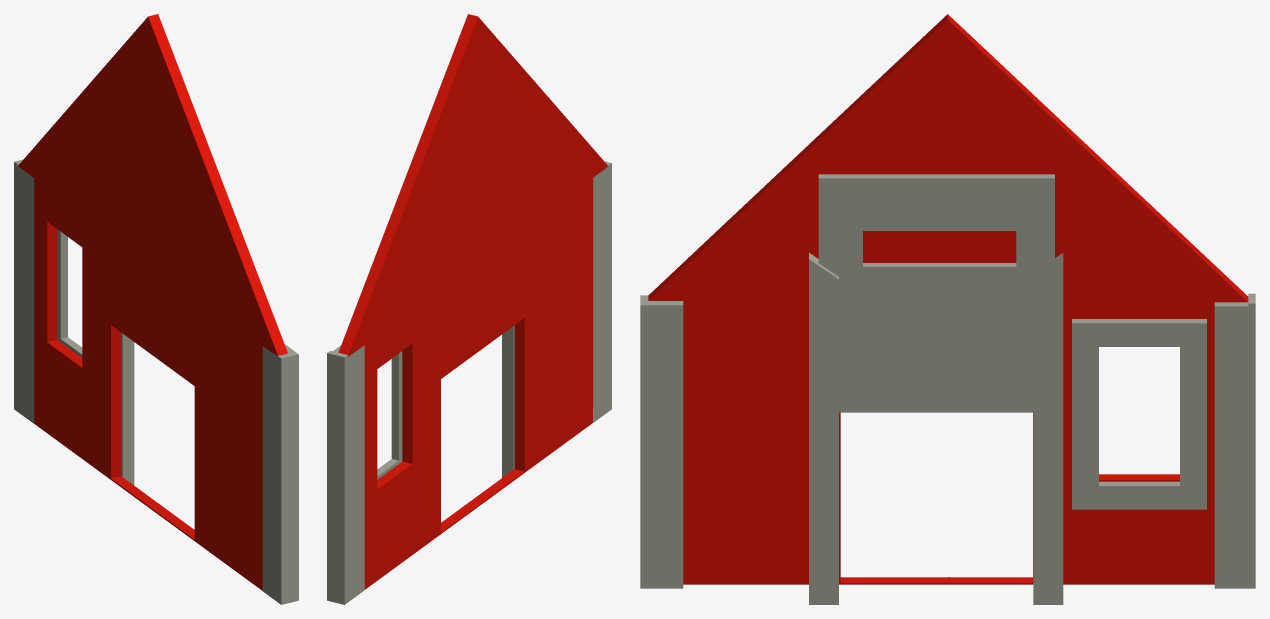
The model's file is parede_frente.gltf.
3 views of the same model, side by side, from view 1: azimuth 30°, elevation 25°; view 2: azimuth 150°, elevation 25°; view 3: azimuth 270°, elevation 25° (orthographic). The views are drawn at different scales.
Parts seen in each view (by area): view 1: Parede frente; view 2: Parede frente; view 3: Parede frente.
Part boxes in pixels (x1,y1,x2,y2): Parede frente: (14, 14, 298, 604); Parede frente: (327, 14, 611, 604); Parede frente: (640, 14, 1255, 604).
Bounding box in the file's own units: 0.1284 × 2.6 × 2.51.
